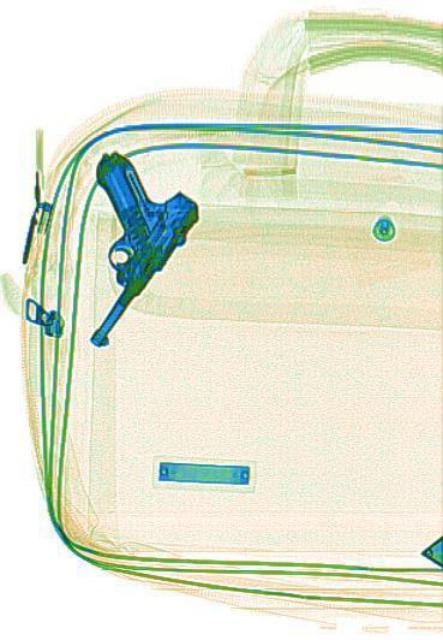Gun: (22, 114, 203, 356)
